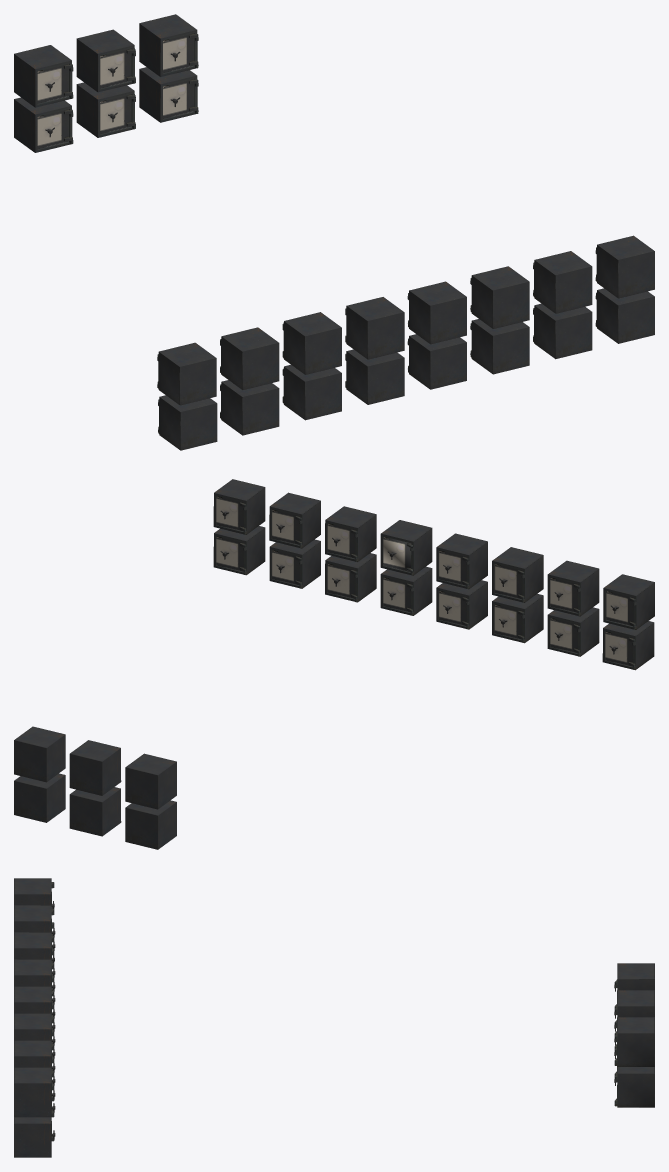
The model's file is Casino_Lockers.fbx.
3 views of the same model, one above another, from view 1: azimuth 30°, elevation 25°; view 2: azimuth 150°, elevation 25°; view 3: azimuth 270°, elevation 25° (orthographic). The views are drawn at different scales.
Parts seen in each view (by area): view 1: A02, A08, A05, A03, A06, A07, AO1, A04_Locked, A10, B03, B05, B01 (+16 smaller); view 2: B07, B09, C01, B10, C02, B08, A04_Locked, A07, A08, AO1, A06, A03 (+26 smaller); view 3: AO1, C01, C02, A09, B07, B09, A06, A02, A03, A04_Locked, A05, A07 (+1 smaller).
Part boxes in pixels (x1=…): A02: x1=533, y1=251, x2=592, y2=313; A08: x1=157, y1=342, x2=216, y2=405; A05: x1=345, y1=297, x2=404, y2=359; A03: x1=470, y1=266, x2=529, y2=328; A06: x1=282, y1=312, x2=341, y2=374; A07: x1=220, y1=327, x2=279, y2=389; AO1: x1=595, y1=235, x2=654, y2=298; A04_Locked: x1=407, y1=281, x2=466, y2=344; A10: x1=533, y1=303, x2=592, y2=359; B03: x1=345, y1=349, x2=404, y2=404; B05: x1=220, y1=380, x2=279, y2=435; B01: x1=470, y1=319, x2=529, y2=374; B07: x1=125, y1=753, x2=176, y2=809; B09: x1=69, y1=740, x2=121, y2=795; C01: x1=14, y1=726, x2=65, y2=782; B10: x1=69, y1=787, x2=121, y2=836; C02: x1=14, y1=773, x2=65, y2=822; B08: x1=125, y1=800, x2=176, y2=849; A04_Locked: x1=380, y1=520, x2=432, y2=575; A07: x1=547, y1=560, x2=599, y2=616; A08: x1=603, y1=574, x2=654, y2=629; AO1: x1=213, y1=479, x2=265, y2=534; A06: x1=492, y1=547, x2=543, y2=602; A03: x1=325, y1=506, x2=376, y2=561; AO1: x1=14, y1=1067, x2=54, y2=1117; C01: x1=614, y1=1017, x2=654, y2=1066; C02: x1=614, y1=1067, x2=654, y2=1107; A09: x1=14, y1=1114, x2=54, y2=1157; B07: x1=614, y1=963, x2=654, y2=1005; B09: x1=614, y1=990, x2=654, y2=1032; A06: x1=14, y1=932, x2=54, y2=959; A02: x1=14, y1=1040, x2=54, y2=1067; A03: x1=14, y1=1013, x2=54, y2=1040; A04_Locked: x1=14, y1=986, x2=54, y2=1013; A05: x1=14, y1=959, x2=54, y2=986; A07: x1=14, y1=905, x2=54, y2=932.
Size of the model in its own units: 9.97 by 1.69 by 13.17.
